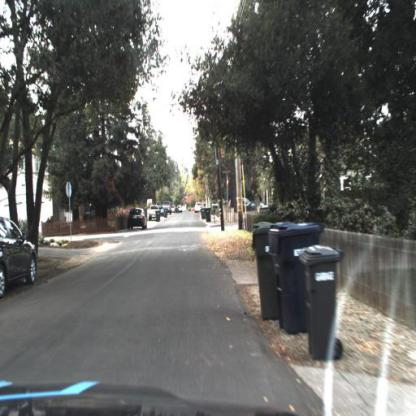car: (1, 218, 38, 304), (127, 207, 152, 232), (125, 207, 148, 230), (228, 195, 252, 210), (247, 201, 268, 211), (149, 205, 161, 221), (163, 201, 173, 215), (195, 201, 204, 215)
